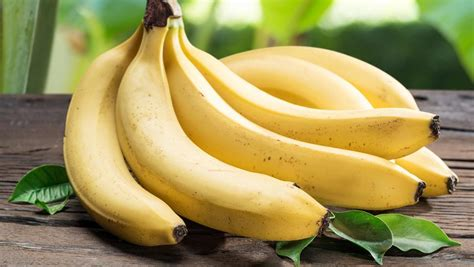banana: (162, 39, 426, 214), (112, 35, 333, 242), (178, 36, 441, 161), (61, 30, 189, 251)
